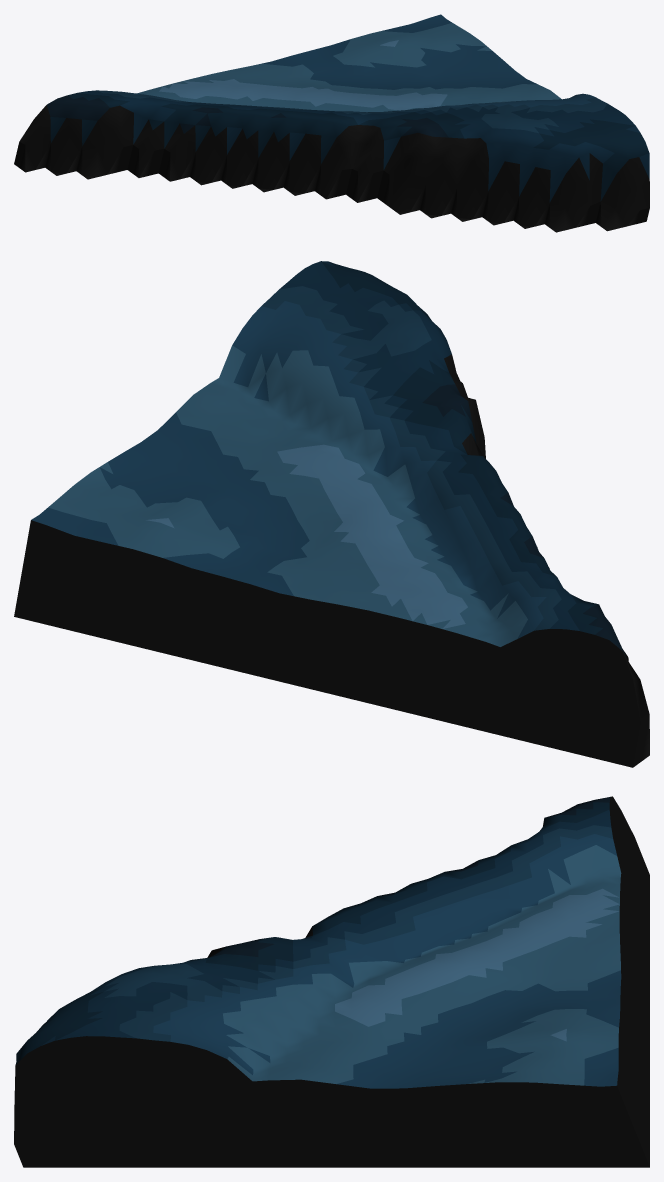
The model's file is gryphon_79.glb.
3 renders of one model, top to bottom at view 1: azimuth 30°, elevation 25°; view 2: azimuth 150°, elevation 25°; view 3: azimuth 270°, elevation 25°, orthographic. The views are drawn at different scales.
Parts seen in each view (by area): view 1: gryphon_79; view 2: gryphon_79; view 3: gryphon_79.
Part boxes in pixels (x1,y1,x2,y2): gryphon_79: (14,14,649,232); gryphon_79: (14,261,649,767); gryphon_79: (14,796,649,1167).
Bounding box in the file's own units: 21 × 4.4 × 19.29.
